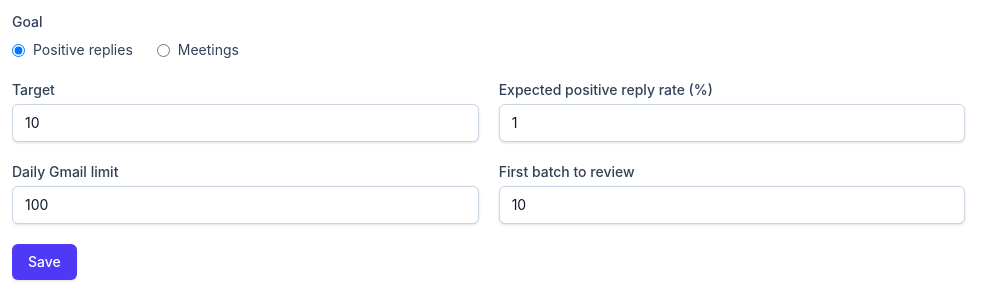
Test: shows rates as percentages and saves fractions
Replace the text in the number field labelled "Expected positive reply rate (%)" with "2" at (732, 123), box [499,104,965,142]
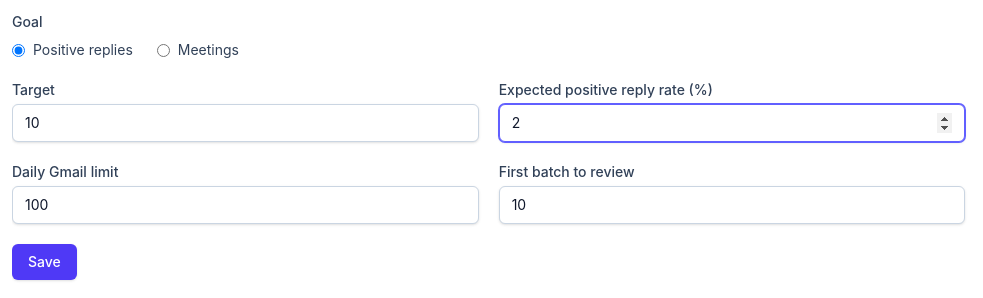
Click the button "Save" at (44, 262), box [12,244,77,280]
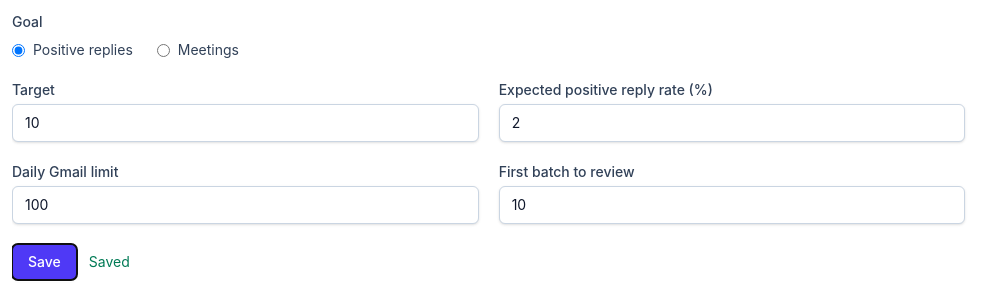
Check: the text "Saved" is shown, box [89,252,130,272]
